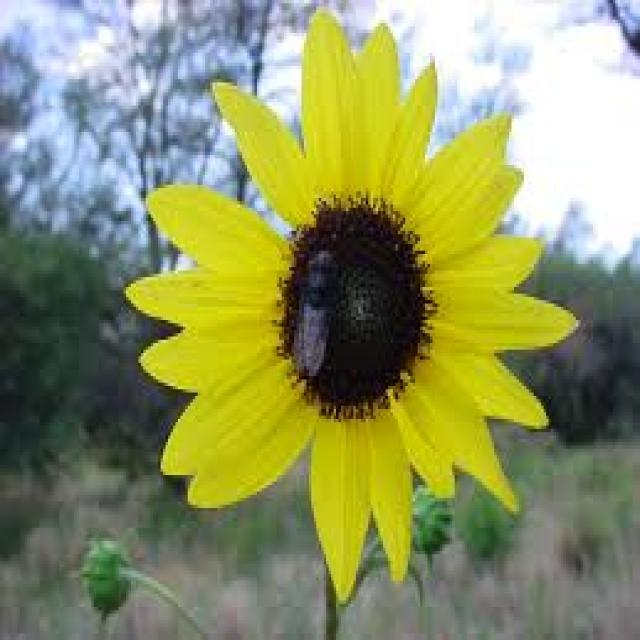sunflower: (127, 1, 580, 612)
